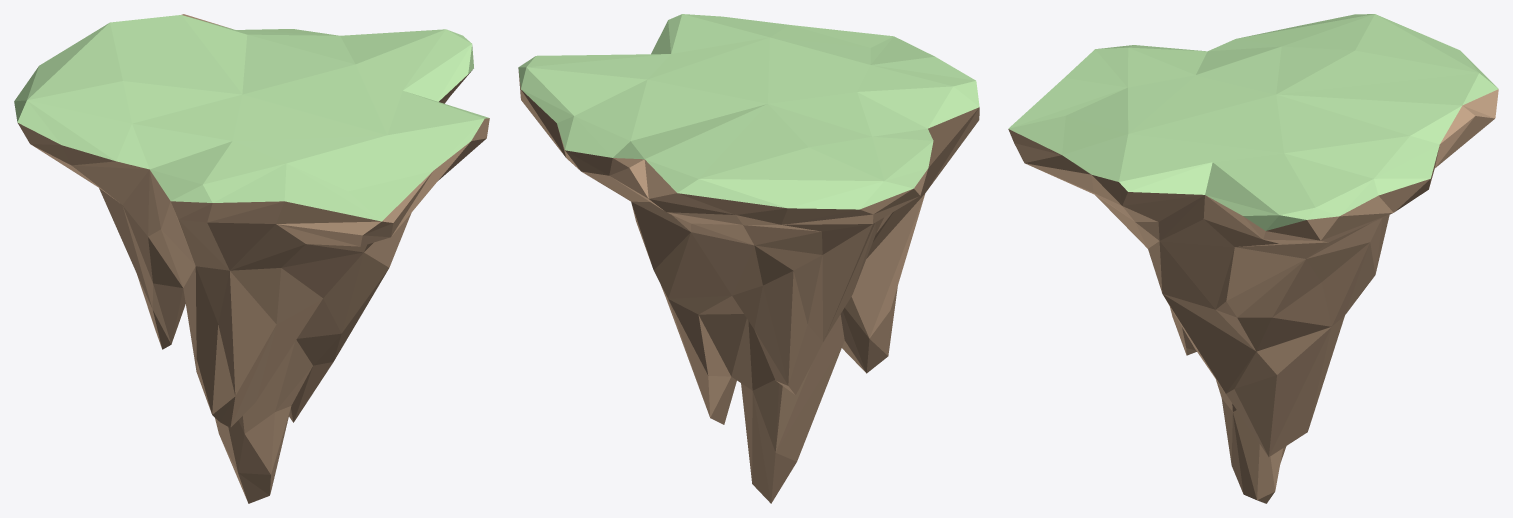
Rendered from island3_Green.fbx.
3 views of the same model, side by side, from view 1: azimuth 30°, elevation 25°; view 2: azimuth 150°, elevation 25°; view 3: azimuth 270°, elevation 25° (orthographic).
Parts seen in each view (by area): view 1: island3; view 2: island3; view 3: island3.
Part boxes in pixels (x1=…): island3: x1=14, y1=14, x2=489, y2=503; island3: x1=518, y1=14, x2=979, y2=503; island3: x1=1008, y1=14, x2=1498, y2=503.
Bounding box in the file's own units: 27.59 × 25.77 × 27.62.
